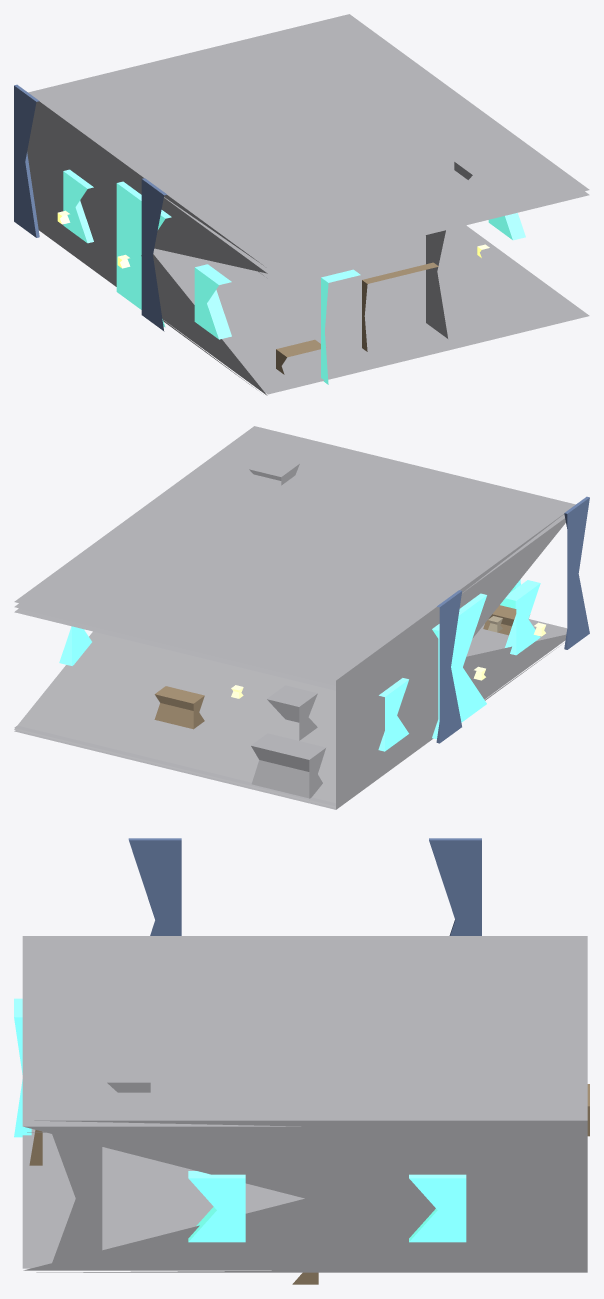
File: guildhouse_3d_ground.glb
The picture shows the model from 3 angles, top to bottom: view 1: azimuth 30°, elevation 25°; view 2: azimuth 150°, elevation 25°; view 3: azimuth 270°, elevation 25°; orthographic projection. The views are drawn at different scales.
Parts seen in each view (by area): view 1: floorplan; view 2: floorplan; view 3: floorplan.
Boxes of the visible parts, x1=… form: floorplan: x1=14, y1=14, x2=589, y2=395; floorplan: x1=14, y1=426, x2=589, y2=809; floorplan: x1=14, y1=838, x2=589, y2=1284.
Size of the model in its own units: 11.9 by 5.72 by 13.05.
